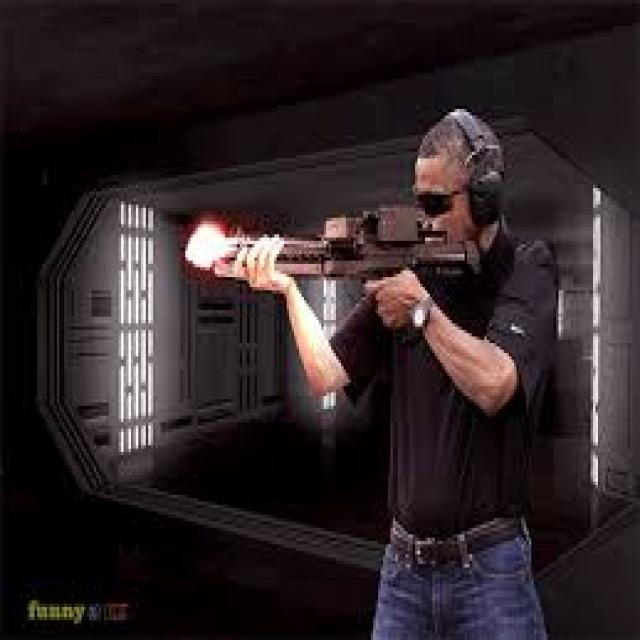gun: (188, 188, 489, 342)
